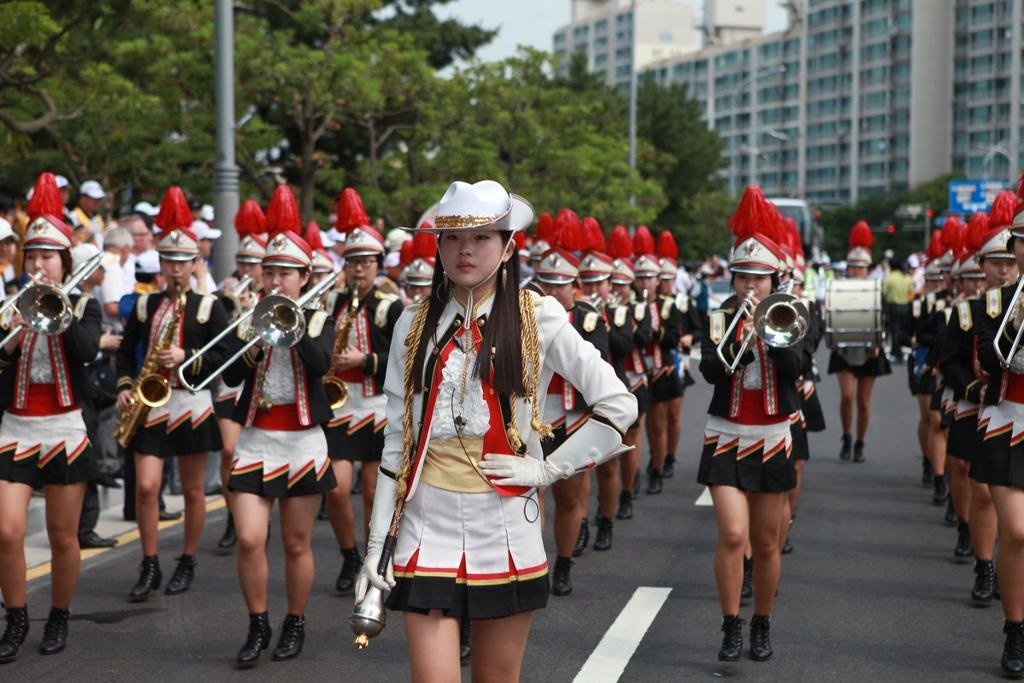human_face: (438, 216, 502, 286), (25, 242, 63, 288), (262, 260, 300, 304), (733, 266, 771, 306), (984, 248, 1018, 288), (345, 251, 377, 291), (160, 253, 190, 287), (541, 272, 571, 306), (237, 252, 263, 282), (962, 264, 986, 296), (583, 272, 609, 300), (407, 278, 431, 306), (82, 257, 106, 283), (129, 220, 149, 249), (306, 265, 328, 291), (635, 271, 657, 293), (1012, 231, 1024, 271), (772, 269, 790, 291), (608, 278, 628, 296), (848, 260, 866, 278), (532, 254, 548, 274), (196, 236, 212, 256), (0, 234, 11, 262), (84, 191, 100, 210), (926, 274, 942, 292), (658, 272, 672, 292), (54, 185, 68, 203), (943, 266, 955, 286), (952, 276, 964, 292), (190, 208, 198, 222)
